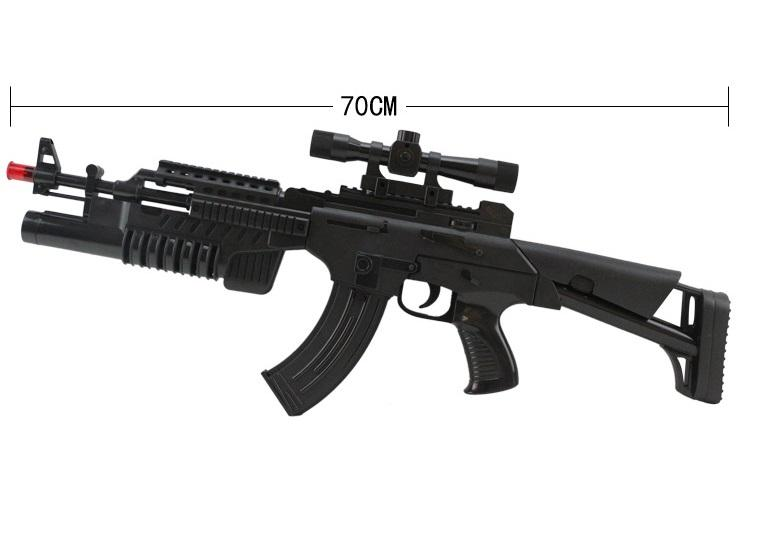Arma Falsa: (5, 119, 734, 435)
